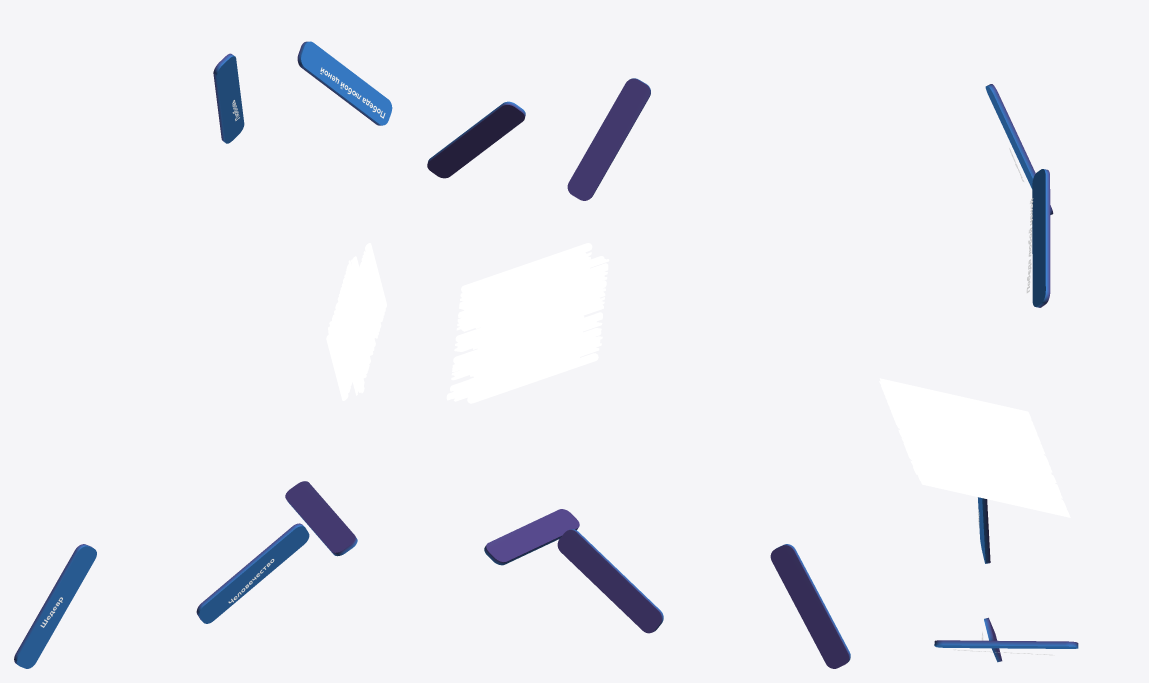
The model's file is 01_Colorful_Question.glb.
3 views of the same model, side by side, from view 1: azimuth 30°, elevation 25°; view 2: azimuth 150°, elevation 25°; view 3: azimuth 270°, elevation 25° (orthographic). The views are drawn at different scales.
Parts seen in each view (by area): view 1: 01_Question, 01_Answer_5, 01_Answer_3, 01_Answer_1, 01_Answer_2, 01_Answer_4; view 2: 01_Question, 01_Answer_4, 01_Answer_5, 01_Answer_3, 01_Answer_1, 01_Answer_2; view 3: 01_Question, 01_Answer_1, 01_Answer_2, 01_Answer_4, 01_Answer_5.
Part boxes in pixels (box(x1,y1,x2,y2)): 01_Question: box(326, 243, 386, 400); 01_Answer_5: box(14, 544, 96, 668); 01_Answer_3: box(196, 523, 309, 623); 01_Answer_1: box(297, 41, 392, 125); 01_Answer_2: box(285, 481, 357, 556); 01_Answer_4: box(213, 53, 244, 143); 01_Question: box(446, 243, 609, 403); 01_Answer_4: box(567, 78, 650, 200); 01_Answer_5: box(770, 544, 850, 668); 01_Answer_3: box(557, 529, 663, 633); 01_Answer_1: box(427, 101, 525, 178); 01_Answer_2: box(484, 509, 579, 565); 01_Question: box(879, 378, 1070, 517); 01_Answer_1: box(1032, 169, 1050, 307); 01_Answer_2: box(934, 640, 1078, 648); 01_Answer_4: box(985, 84, 1053, 214); 01_Answer_5: box(978, 497, 990, 563).
Bounding box in the file's own units: 7.88 × 11.47 × 4.12.
7 materials, 1 textured.
